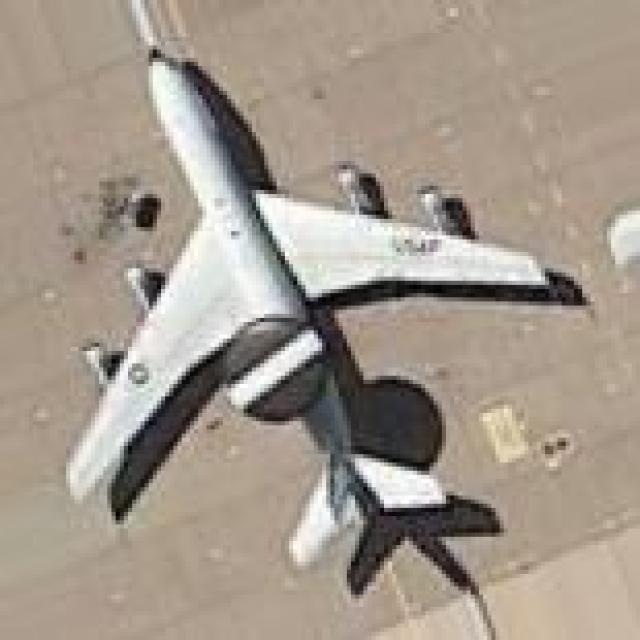E-3_TopDown: (63, 41, 590, 598)
